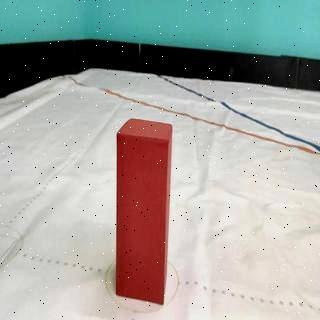redbox: (115, 118, 173, 305)
